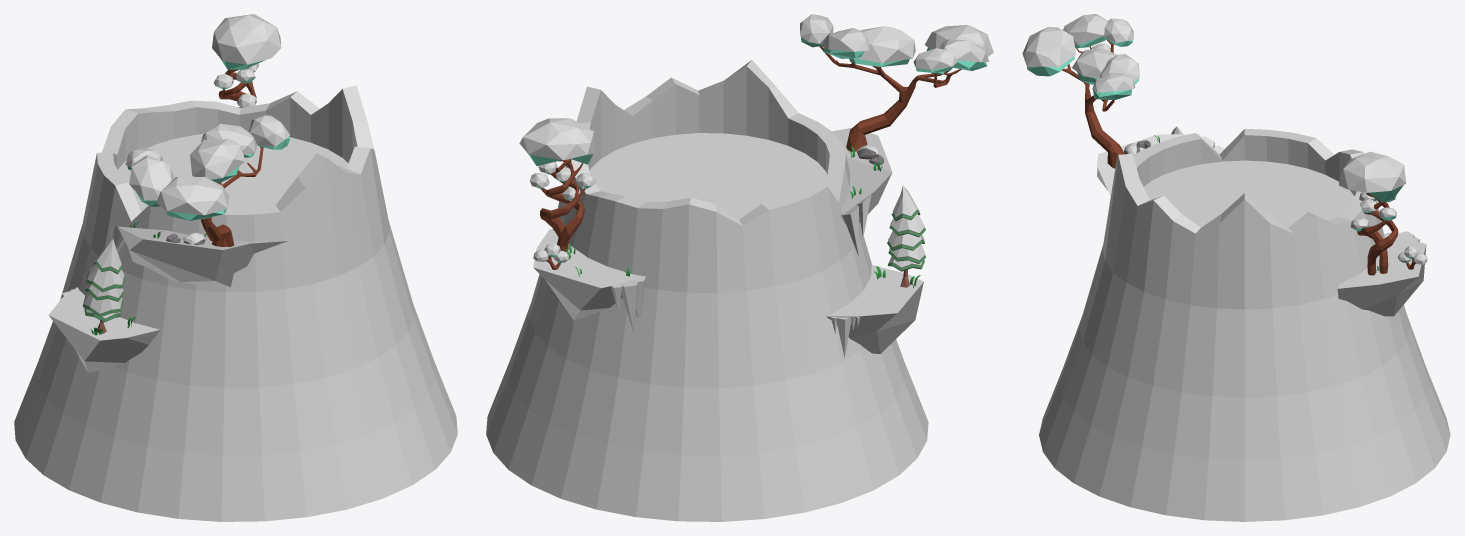
File: lvl2.fbx
3 views of the same model, side by side, from view 1: azimuth 30°, elevation 25°; view 2: azimuth 150°, elevation 25°; view 3: azimuth 270°, elevation 25° (orthographic). The views are drawn at different scales.
Parts seen in each view (by area): view 1: Cylinder, Water, Sphere.003, Sphere.004, Icosphere.032, Icosphere.029, Circle.001, Icosphere.018, Icosphere.028, Icosphere.022, Cube.006, Icosphere.020 (+1 smaller); view 2: Cylinder, Water, Sphere.004, Sphere.002, Icosphere.032, Sphere.003, Cube.006, Circle.001, Icosphere.018, Icosphere.029, Cube.000, Icosphere.020 (+6 smaller); view 3: Cylinder, Water, Sphere.002, Icosphere.032, Icosphere.029, Cube.006, Icosphere.028, Icosphere.018, Sphere.003, Cube, Icosphere.020, Icosphere.022 (+2 smaller).
Part boxes in pixels (x1,y1,x2,y2): Cylinder: (14,85,457,521); Water: (118,134,348,211); Sphere.003: (117,226,288,287); Sphere.004: (48,287,160,372); Icosphere.032: (212,14,281,64); Icosphere.029: (156,176,229,215); Circle.001: (84,238,124,318); Icosphere.018: (190,139,245,179); Icosphere.028: (129,155,174,200); Icosphere.022: (249,115,289,146); Cube.006: (201,146,263,246); Icosphere.020: (201,123,257,154); Cylinder: (486,60,928,521); Water: (589,133,827,219); Sphere.004: (826,265,923,354); Sphere.002: (533,229,640,320); Icosphere.032: (519,118,595,160); Sphere.003: (817,128,892,224); Cube.006: (819,46,961,151); Circle.001: (888,186,925,267); Icosphere.018: (855,26,915,63); Icosphere.029: (925,25,993,56); Cube.000: (541,160,584,251); Icosphere.020: (821,28,869,51); Cylinder: (1039,128,1450,521); Water: (1144,160,1354,227); Sphere.002: (1337,236,1426,316); Icosphere.032: (1339,151,1406,192); Icosphere.029: (1022,27,1076,67); Cube.006: (1062,39,1124,168); Icosphere.028: (1063,14,1107,45); Icosphere.018: (1072,48,1117,78); Sphere.003: (1096,134,1214,196); Cube: (1363,201,1398,275); Icosphere.020: (1100,54,1139,82); Icosphere.022: (1092,72,1135,92).
Size of the model in its own units: 669 by 615 by 696.
